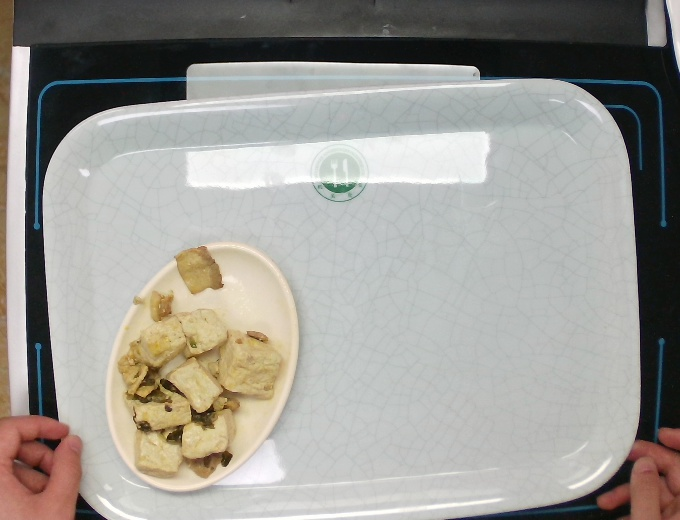JYsf-Tuo_Yuan_Wan: (98, 233, 303, 495)
